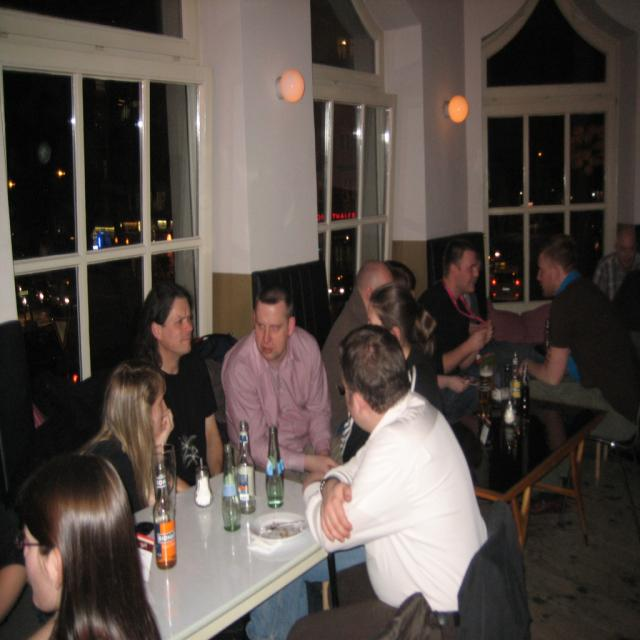Bottle: (474, 345, 530, 458), (217, 440, 243, 537), (154, 465, 178, 569), (234, 422, 258, 511), (266, 426, 287, 513), (196, 459, 214, 505)
